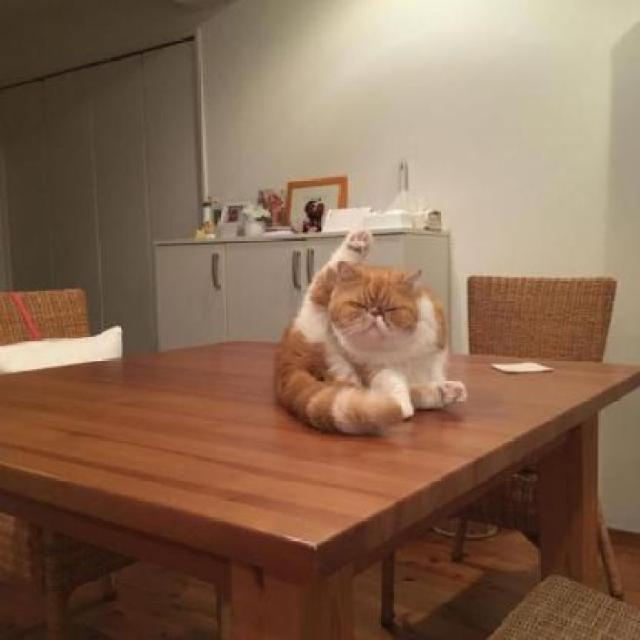cat: (258, 228, 474, 448)
